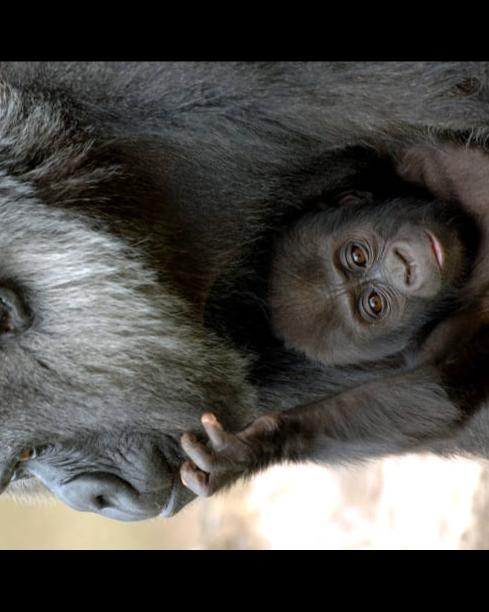gorille_Autres: (0, 75, 489, 539), (252, 96, 489, 409)
